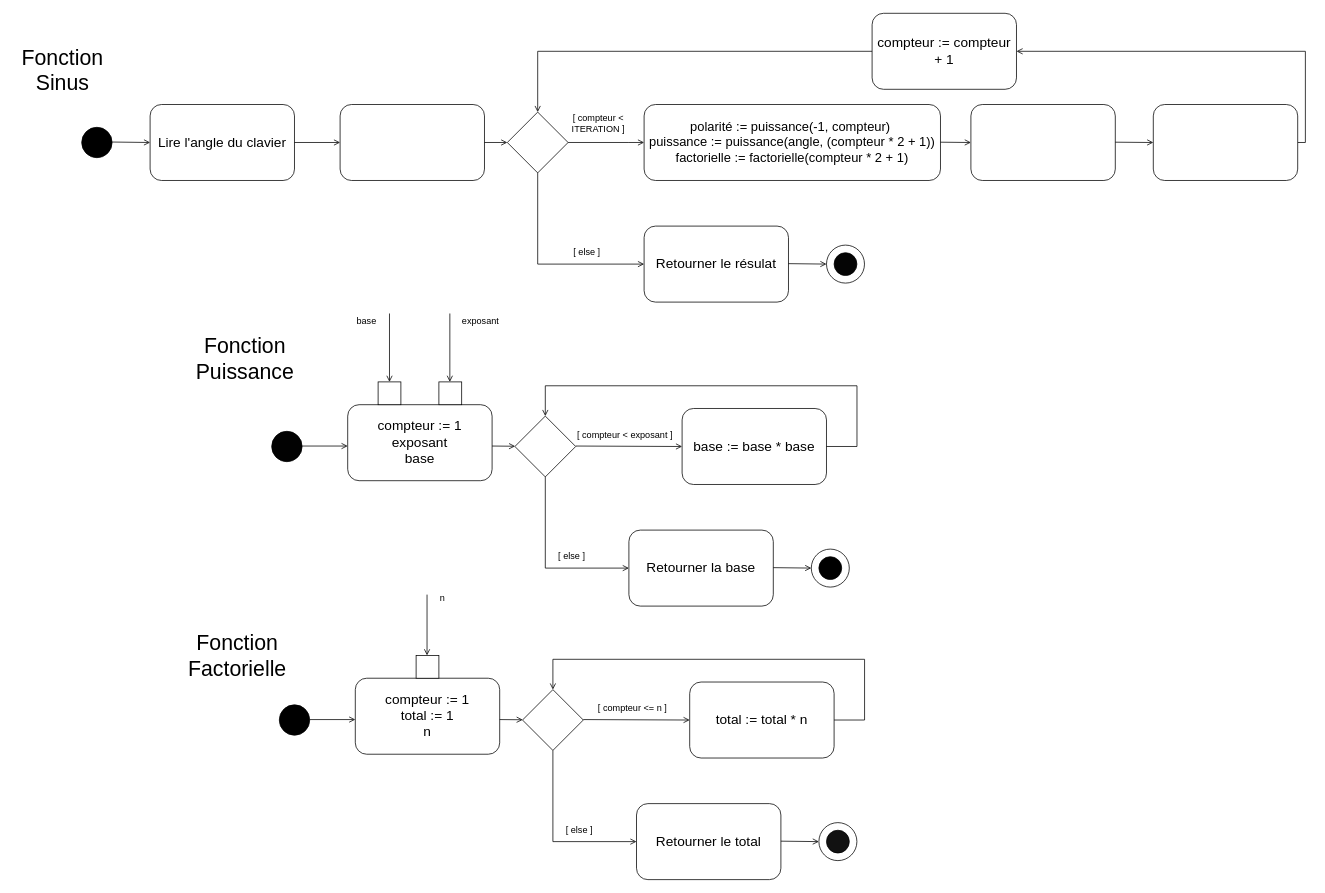
Some shapes in this 1325 by 893 pixel diagram are drawn without their labels. Here are the shapes that lost their labels. From the top down, the box of each, then its label:
(339, 104, 484, 180): compteur := 0 ITERATION := const
(970, 104, 1115, 180): résultat := polarité * puissance / factorielle
(1153, 104, 1298, 180): somme := résultat + somme
